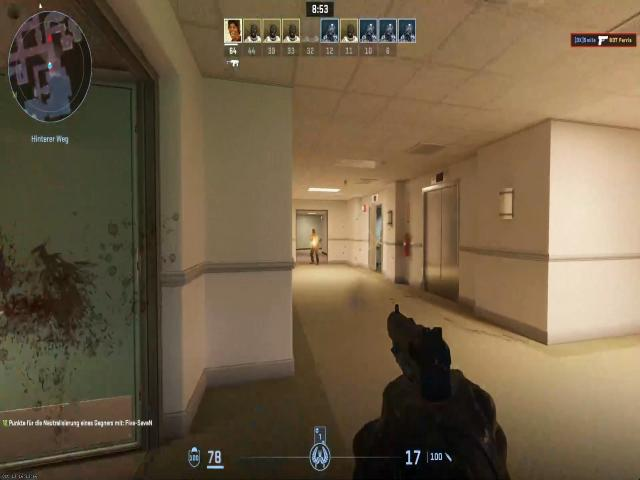T: (310, 228, 319, 258)
T-Head: (310, 229, 318, 241)
